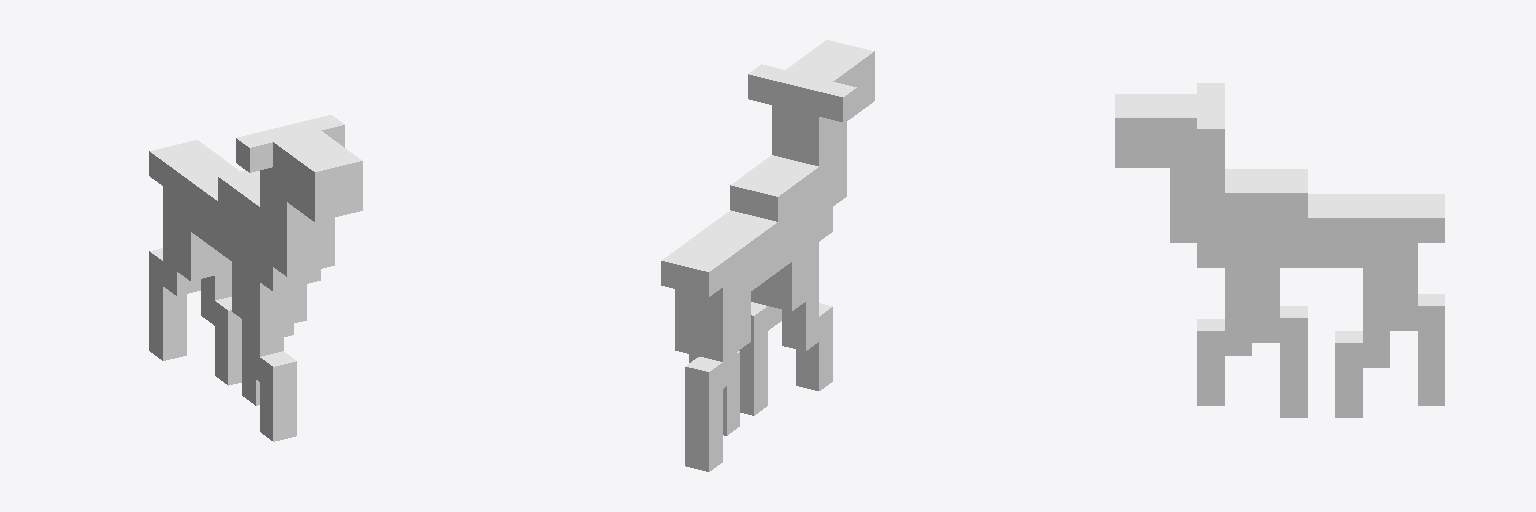
File: deer_walking_3.obj
3 views of the same model, side by side, from view 1: azimuth 30°, elevation 25°; view 2: azimuth 150°, elevation 25°; view 3: azimuth 270°, elevation 25° (orthographic).
Bounding box in the file's own units: 4 × 12 × 12.